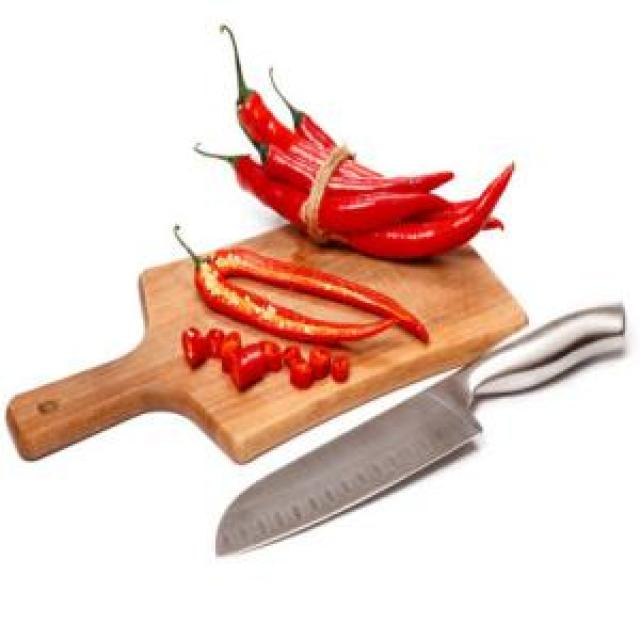knife: (213, 299, 626, 561)
